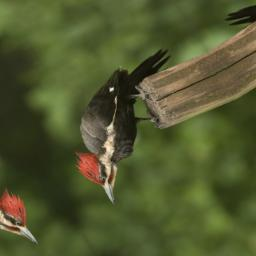Woodpecker: (28, 34, 234, 214)
